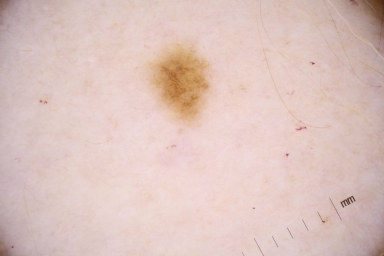nevus: (153, 51, 210, 121)
